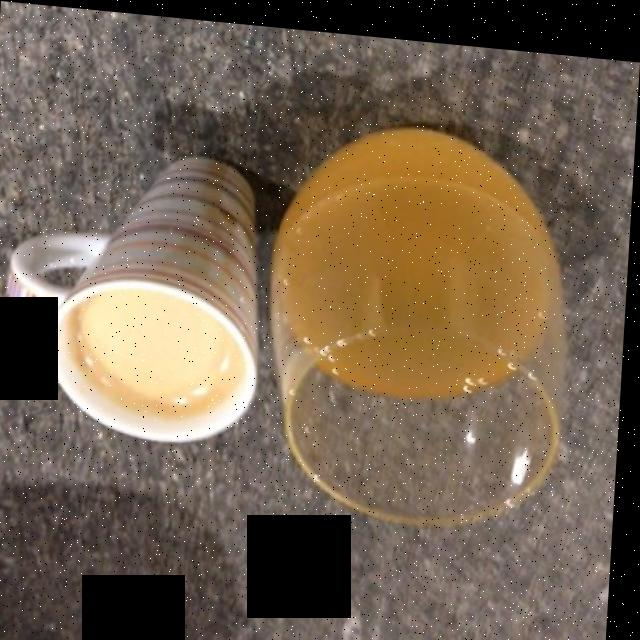espresso-with-caffeine: (80, 284, 241, 404)
kefir-drink: (281, 132, 562, 387)
